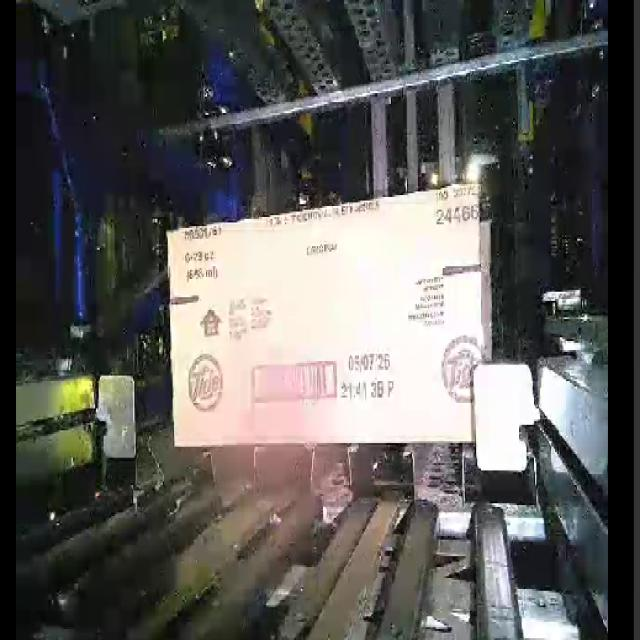box: (165, 182, 490, 456)
